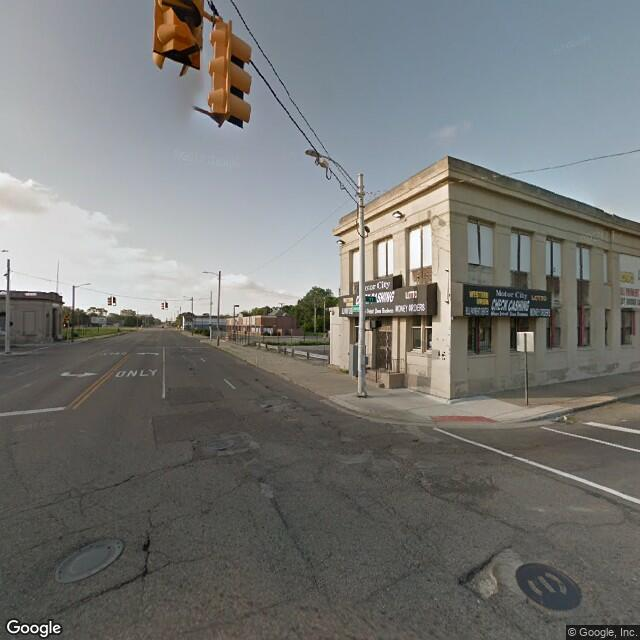litter: (562, 415, 570, 421)
